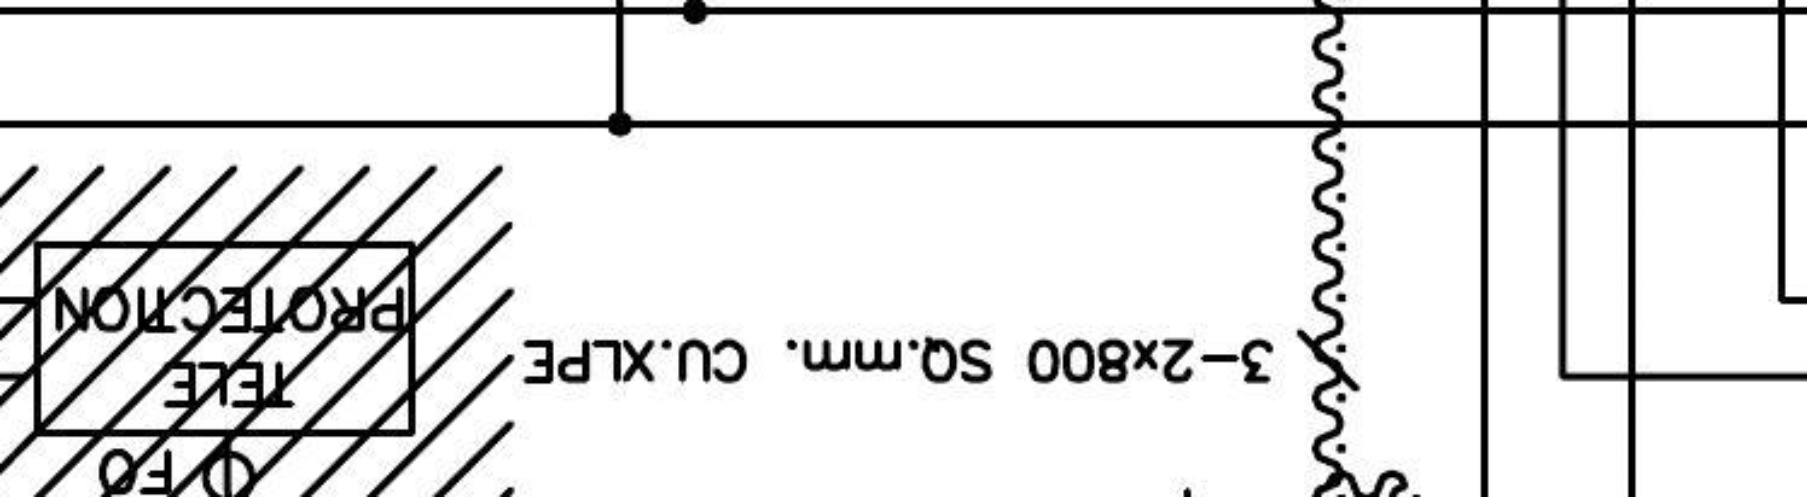tele_protection: (28, 234, 423, 443)
